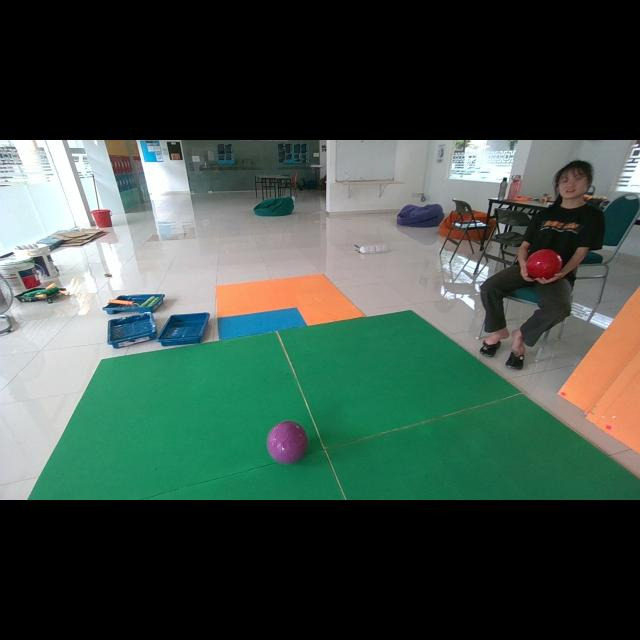P: (268, 421, 308, 464)
R: (526, 249, 562, 279)
